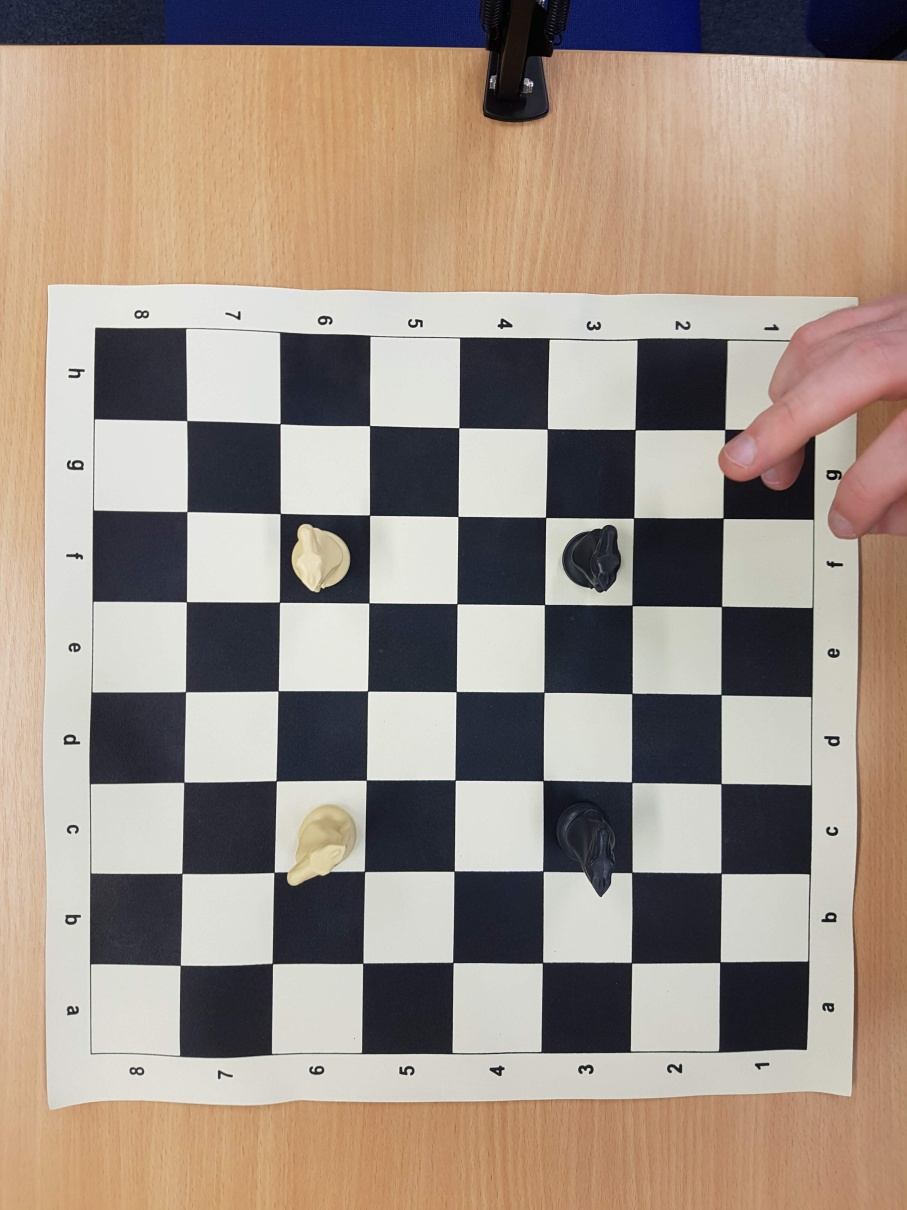chess_knight: (557, 802, 621, 896), (287, 806, 355, 884), (291, 522, 351, 591), (563, 524, 623, 592)
